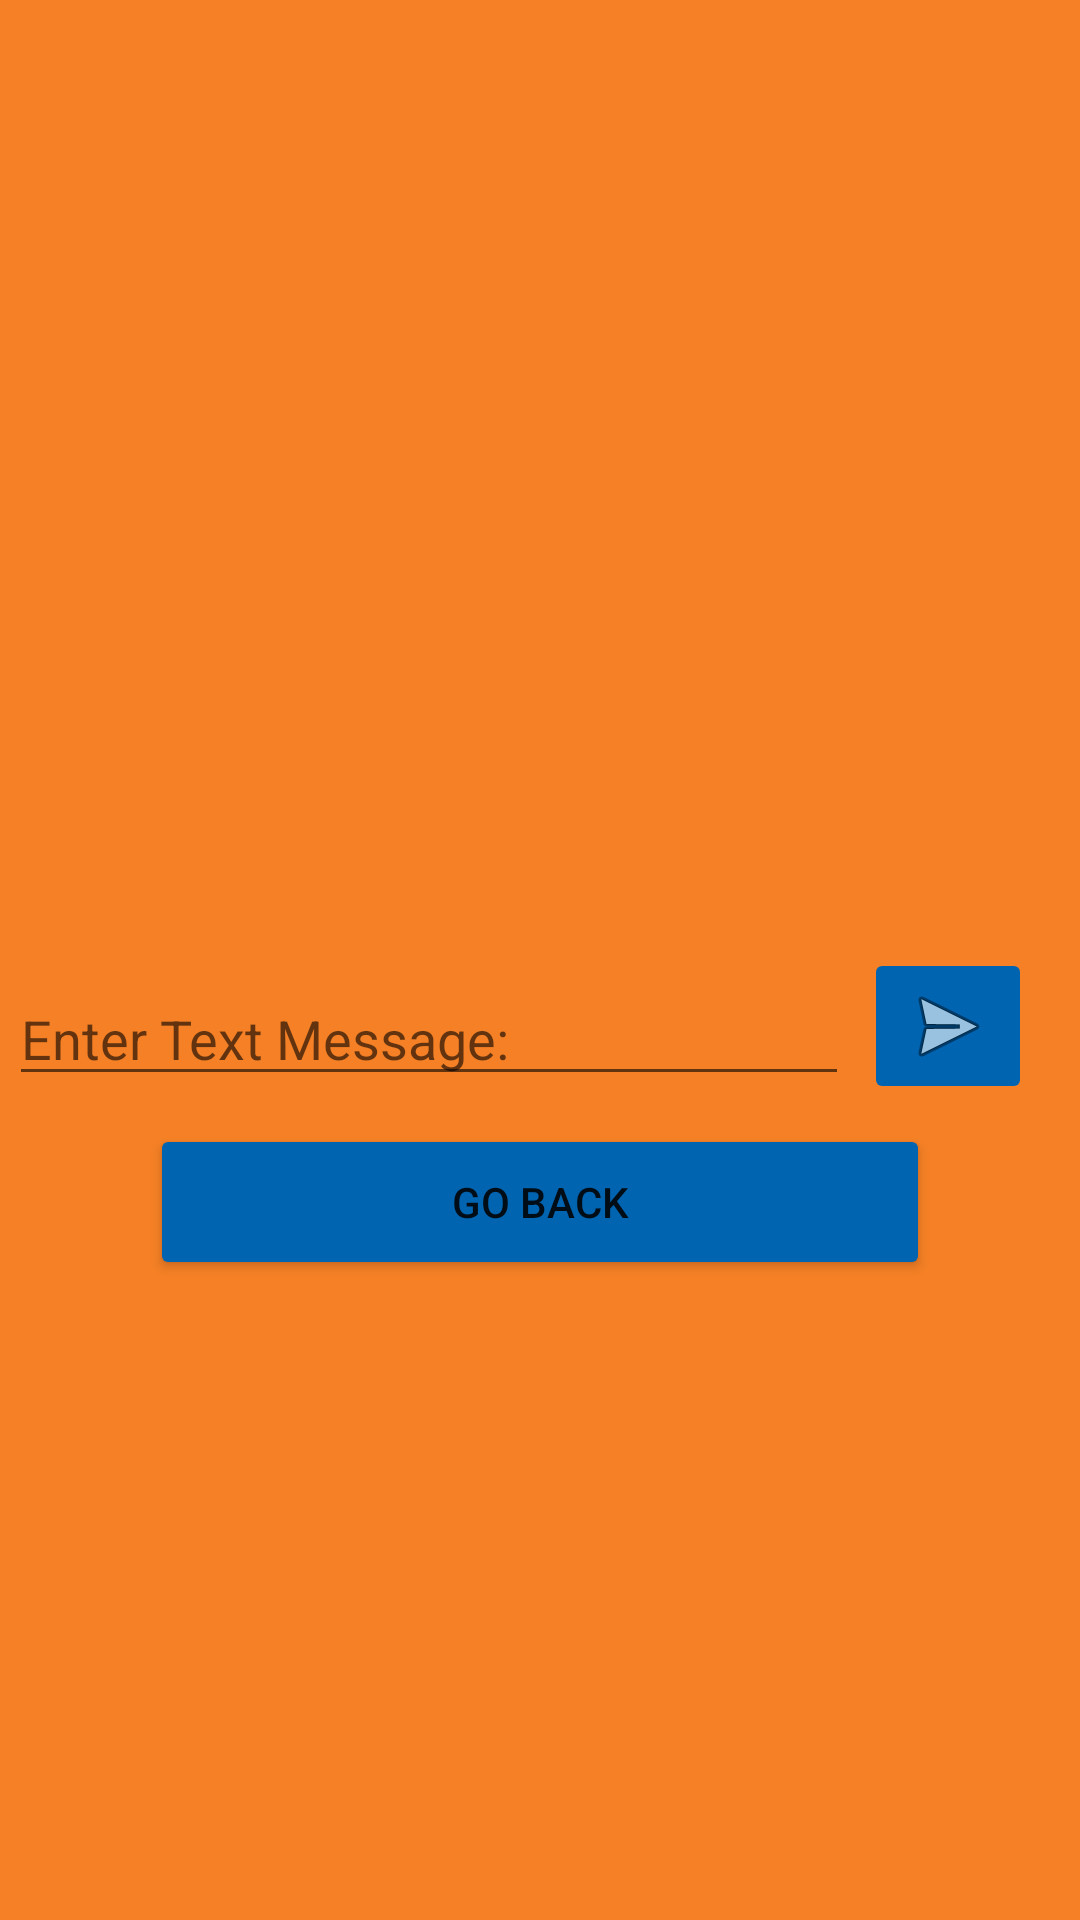

Named icons in this screenshot (1080px×1920px) and their bounding boxes, bbox=[x1, y1, x2, y2]:
send: bbox=[876, 966, 1020, 1086]
